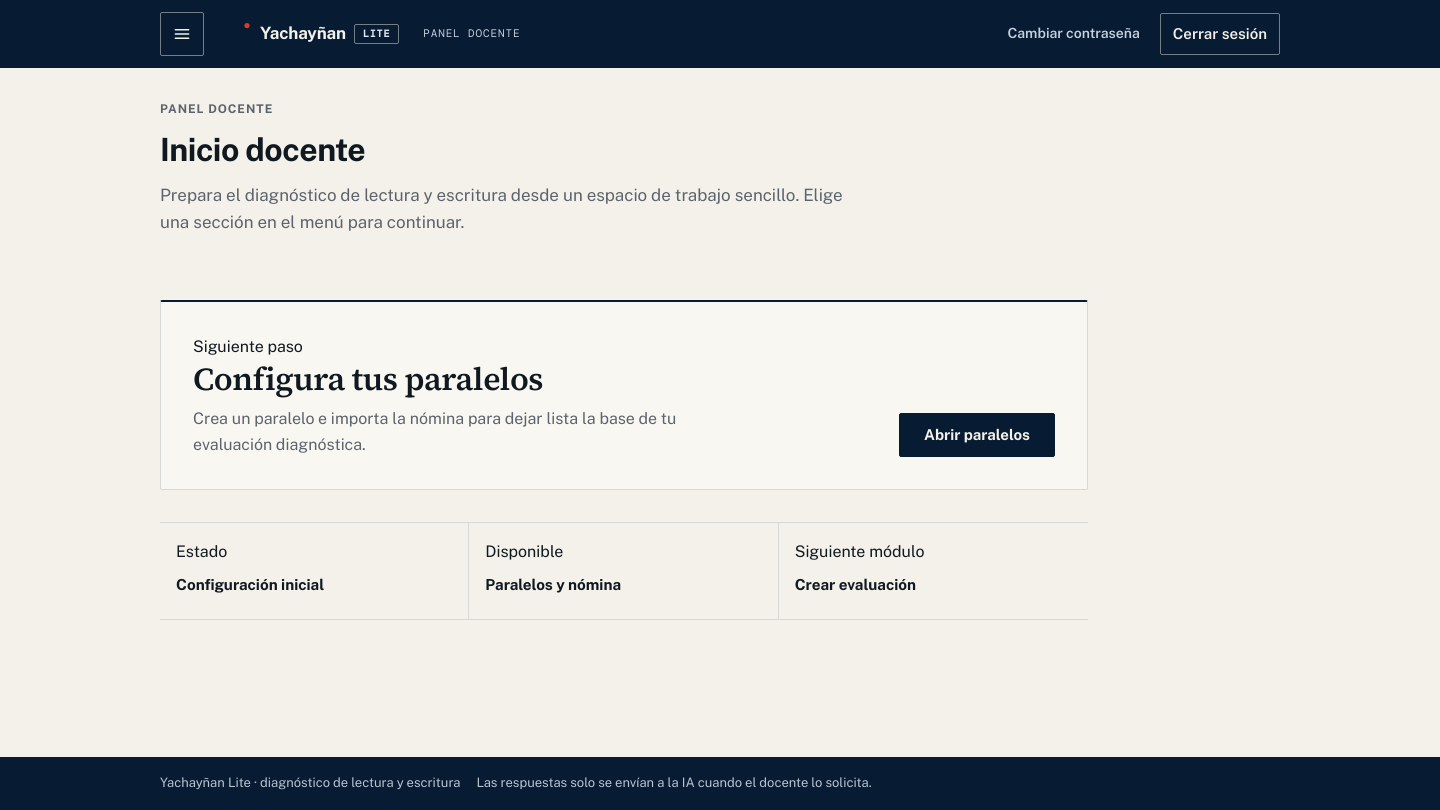
Test: App › abre el editor real desde el menú docente
Click the button named "Abrir menú docente".
click(182, 34)  # box [160, 12, 204, 56]
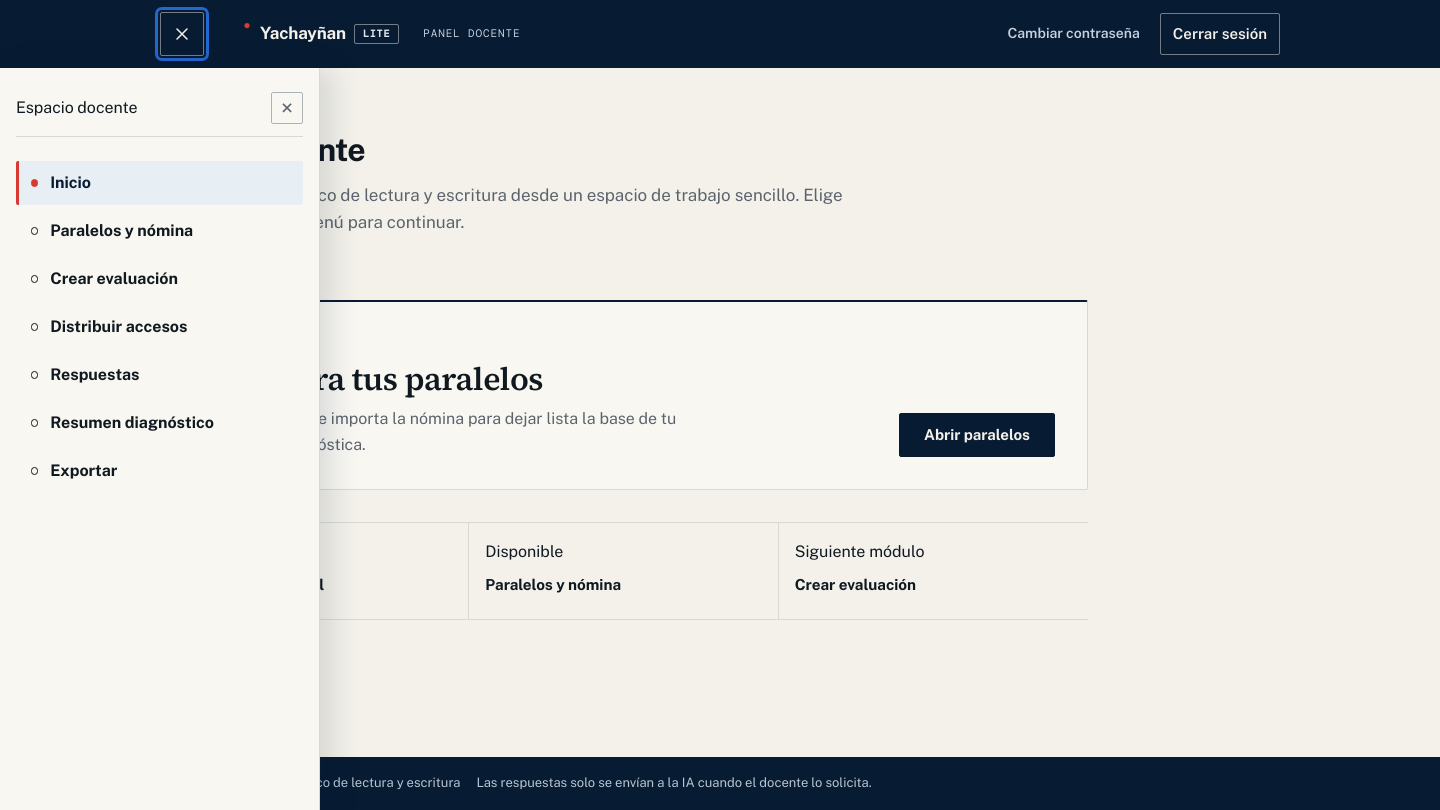
Click the link "Crear evaluación".
click(105, 279)  # box [31, 269, 178, 288]
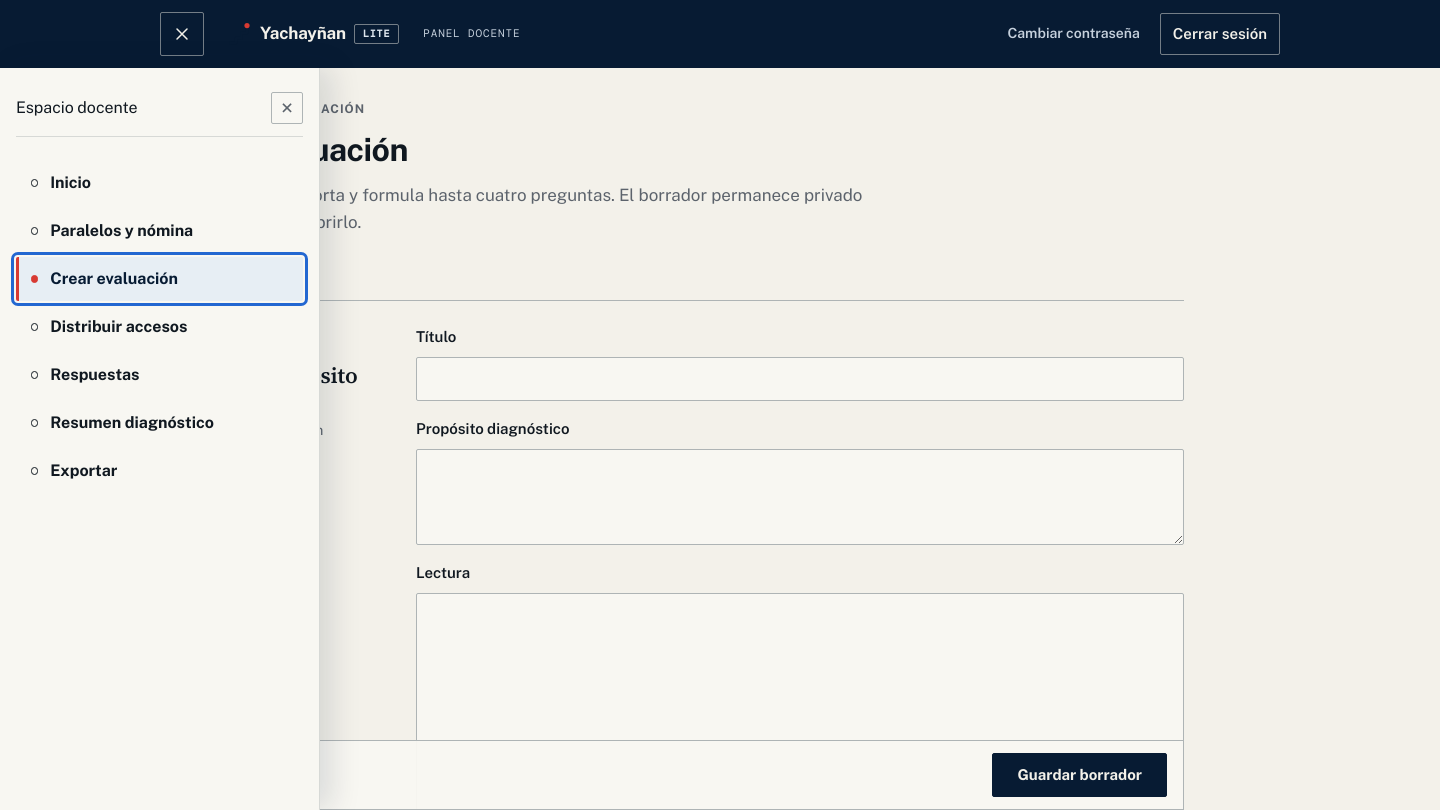
Expected: the heading "Crear evaluación" is shown, [160, 131, 408, 168]
